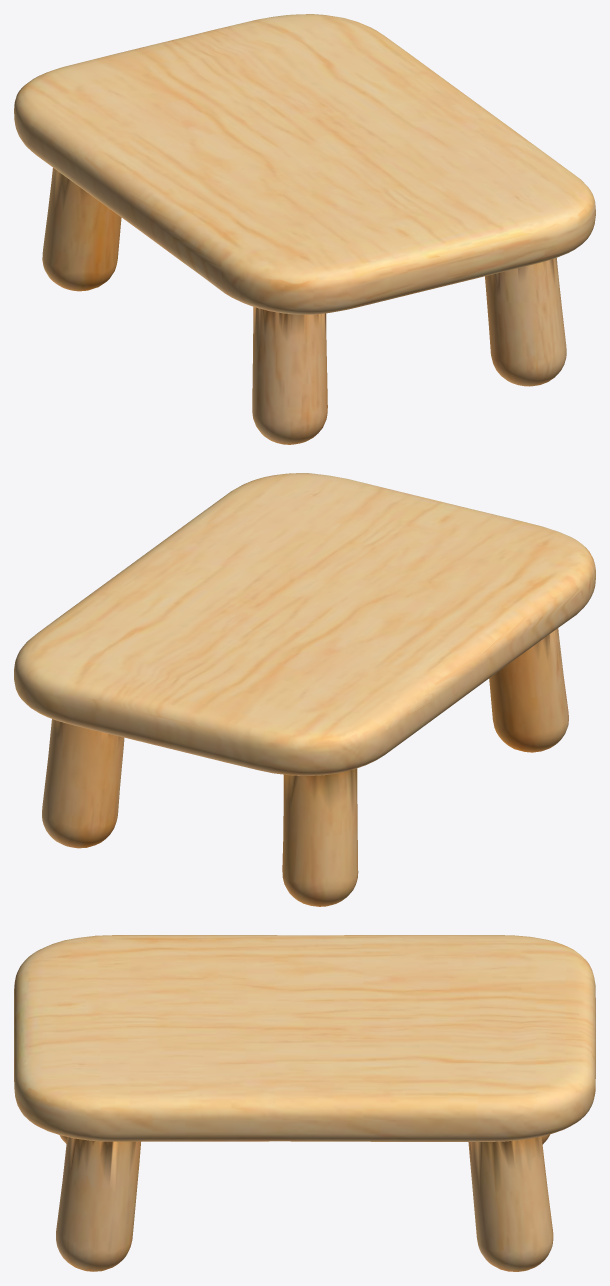
Rendered from teatable.glb.
3 views of the same model, one above another, from view 1: azimuth 30°, elevation 25°; view 2: azimuth 150°, elevation 25°; view 3: azimuth 270°, elevation 25° (orthographic).
Visible parts, largest first — view 1: teatable; view 2: teatable; view 3: teatable.
Part boxes in pixels (x1,y1,x2,y2): teatable: [14, 14, 595, 444]; teatable: [14, 473, 595, 906]; teatable: [14, 935, 595, 1271].
Bounding box in the file's own units: 1.93 × 1 × 2.71.
1 material, 1 textured.
